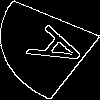A: (24, 24, 100, 77)
